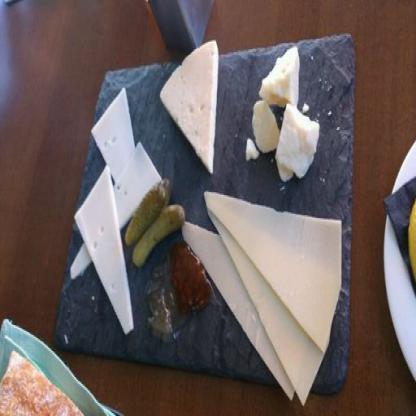mozarella cheese: (201, 188, 343, 403), (78, 166, 135, 335), (161, 46, 220, 172), (92, 92, 140, 211), (278, 104, 318, 183), (260, 46, 302, 108)
